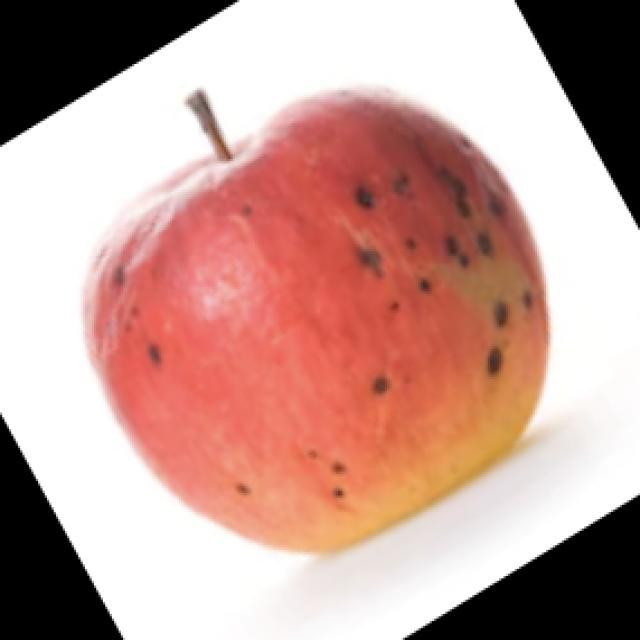Rotten: (67, 84, 548, 534)
